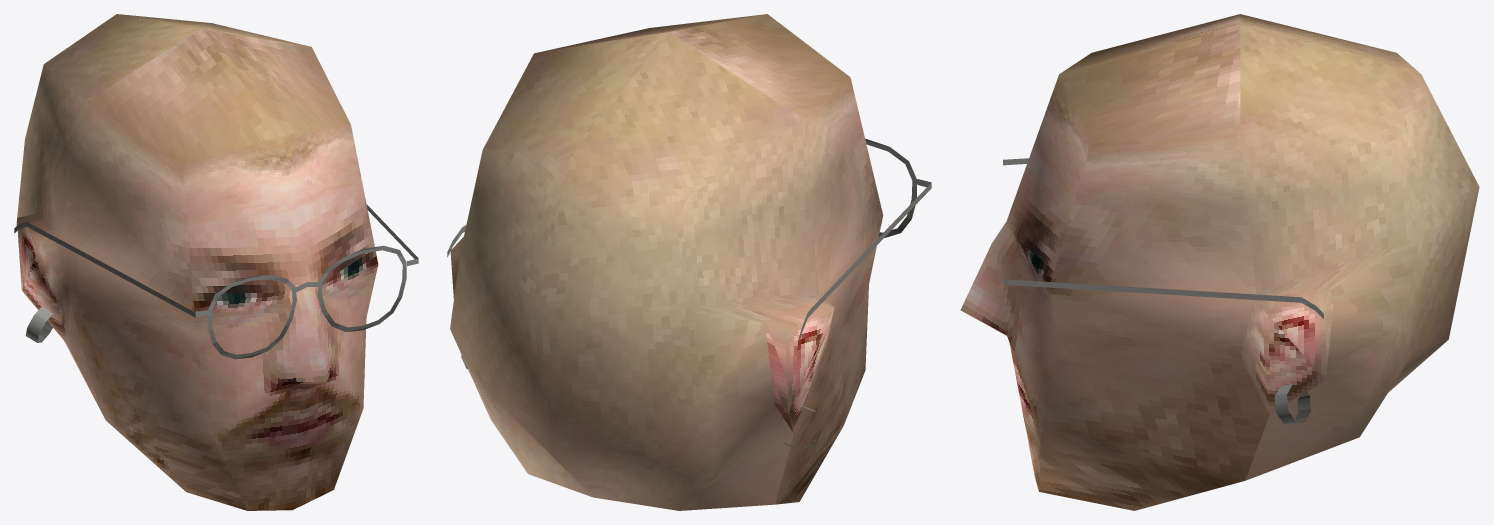
Rendered from head.glb.
3 views of the same model, side by side, from view 1: azimuth 30°, elevation 25°; view 2: azimuth 150°, elevation 25°; view 3: azimuth 270°, elevation 25° (orthographic). The views are drawn at different scales.
Parts seen in each view (by area): view 1: head, glasses, earrings; view 2: head, glasses; view 3: head, glasses, earrings.
Boxes of the visible parts, x1,y1,x2,y2 form: head: [16, 14, 378, 510]; glasses: [14, 204, 418, 359]; earrings: [25, 306, 52, 342]; head: [450, 14, 883, 510]; glasses: [447, 138, 931, 343]; head: [960, 14, 1479, 510]; glasses: [1003, 158, 1323, 318]; earrings: [1274, 384, 1310, 423].
Bounding box in the file's own units: 0.4454 × 0.6033 × 0.6069.
1 material, 1 textured.
